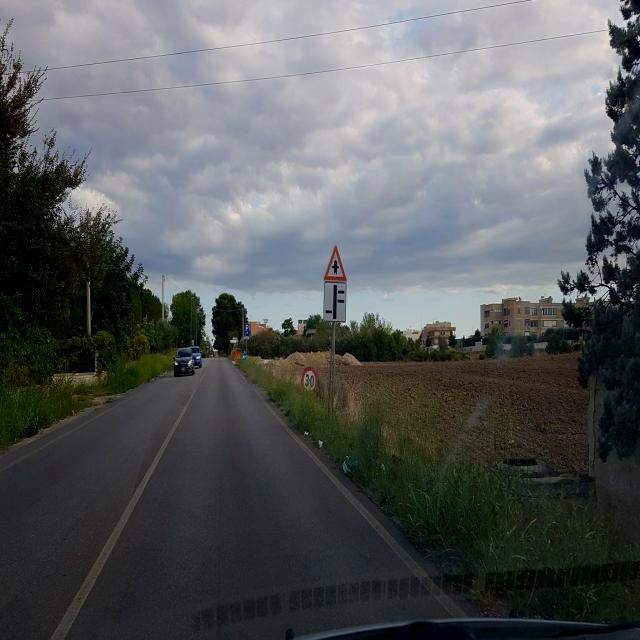car: (172, 346, 195, 376), (190, 344, 202, 368)
